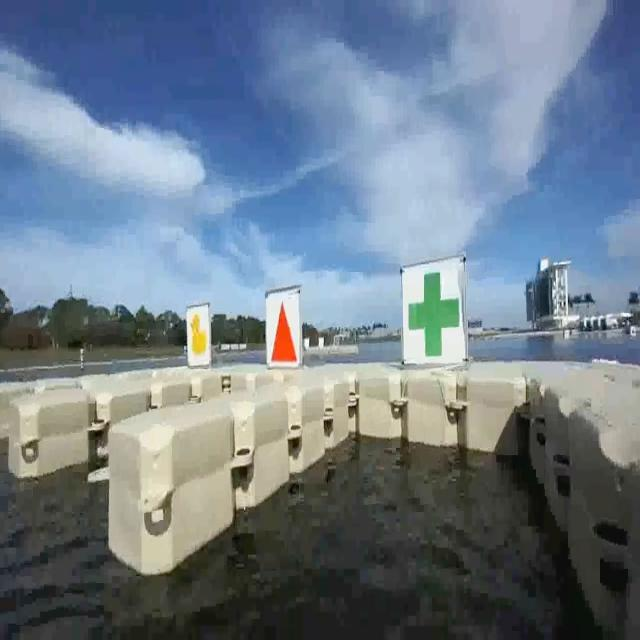blue-cross: (397, 265, 466, 367)
yellow-duck: (183, 304, 211, 367)
